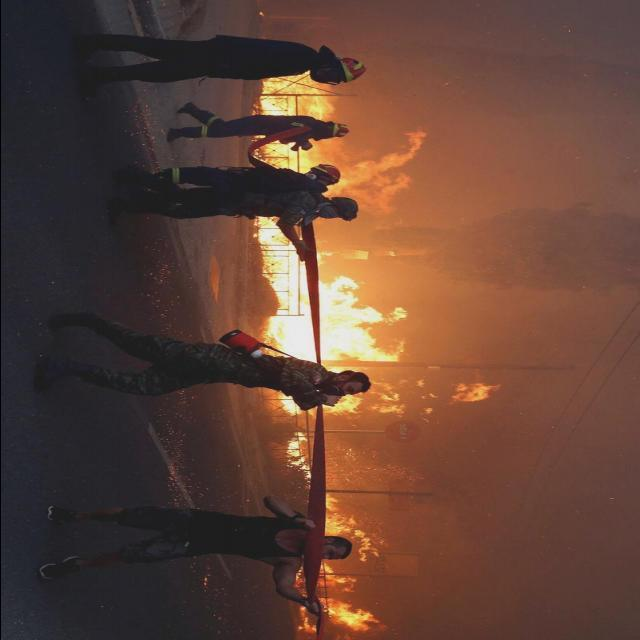Fire: (236, 244, 508, 426), (244, 68, 424, 243), (272, 431, 398, 637)
